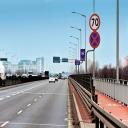speed_limit_70: (89, 13, 100, 31)
